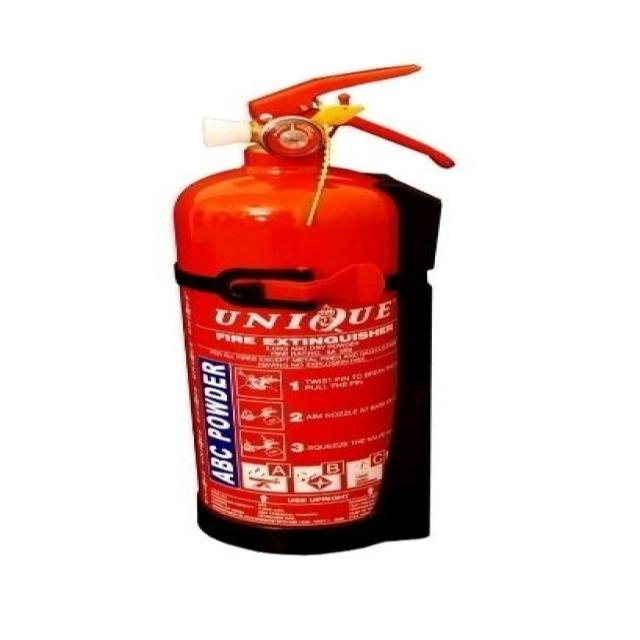fire_extinguisher: (155, 56, 468, 560)
